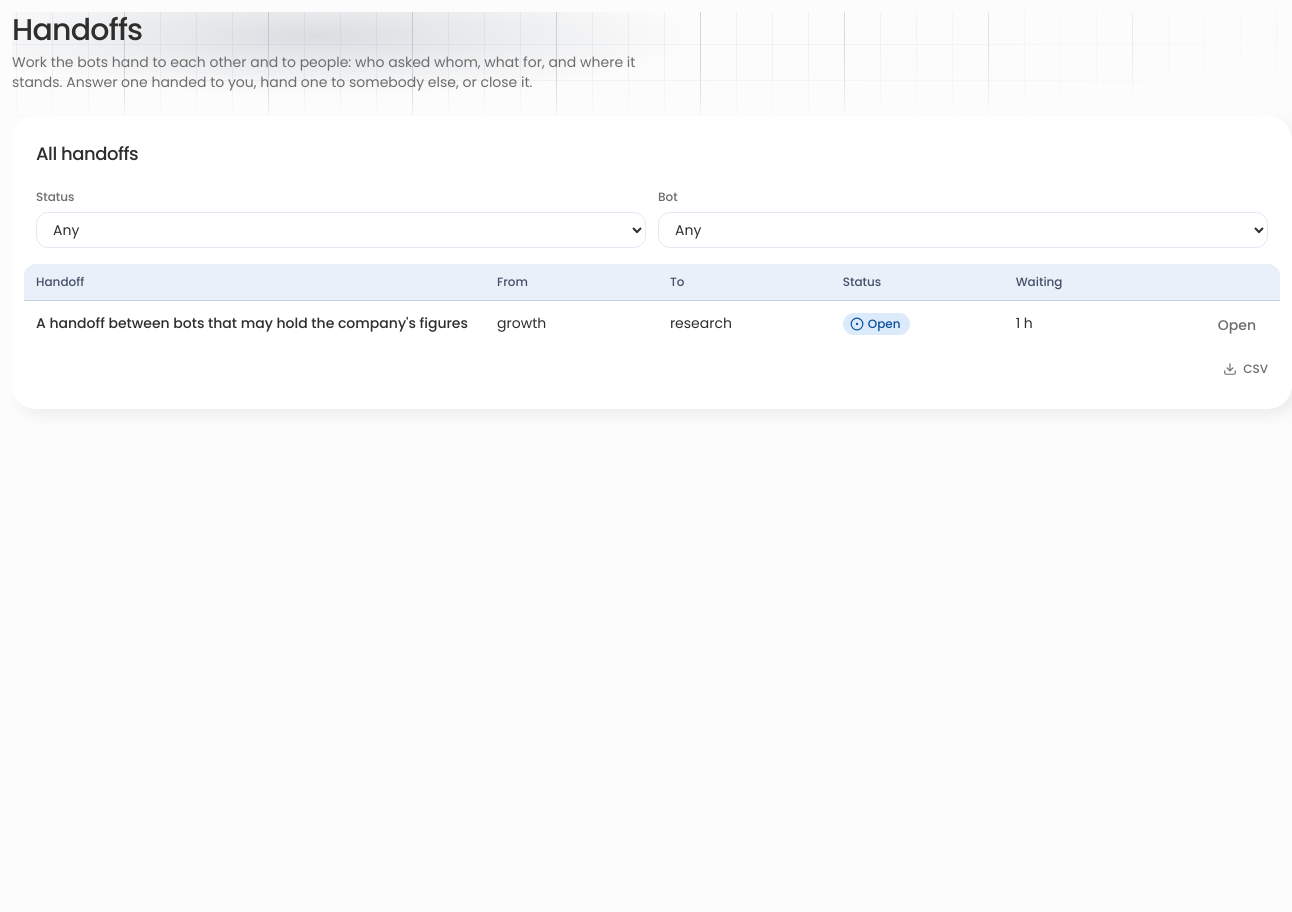
the handoffs page › one whose words are withheld says why, and offers nothing to read
Click the button "Open".
click(1237, 325)  # box [1206,307,1268,343]
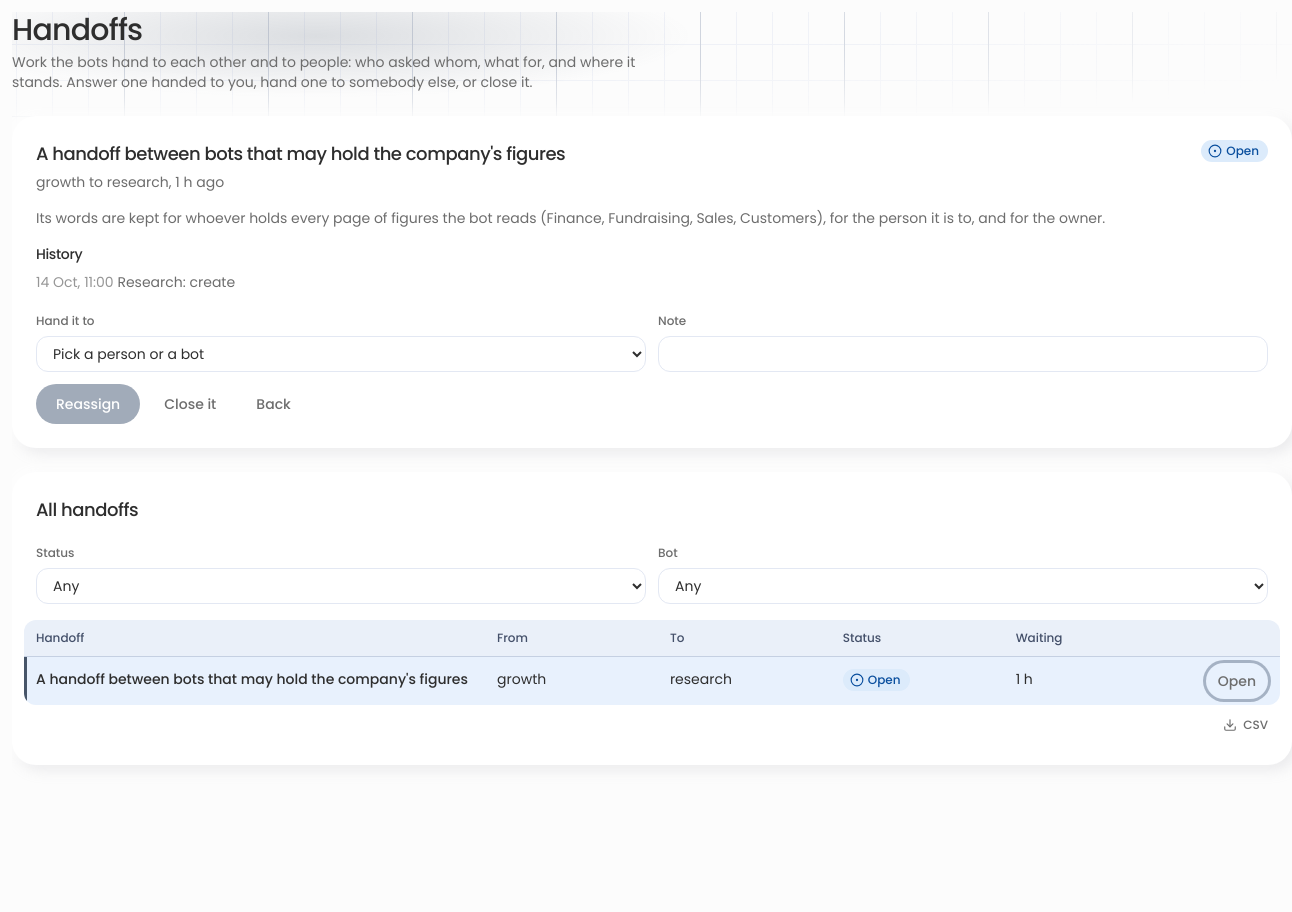
Expected: the element "A handoff between bots that may hold the company's figures" shows "Its words are kept for whoever holds every page of figures the bot reads", [36,208,547,228]
